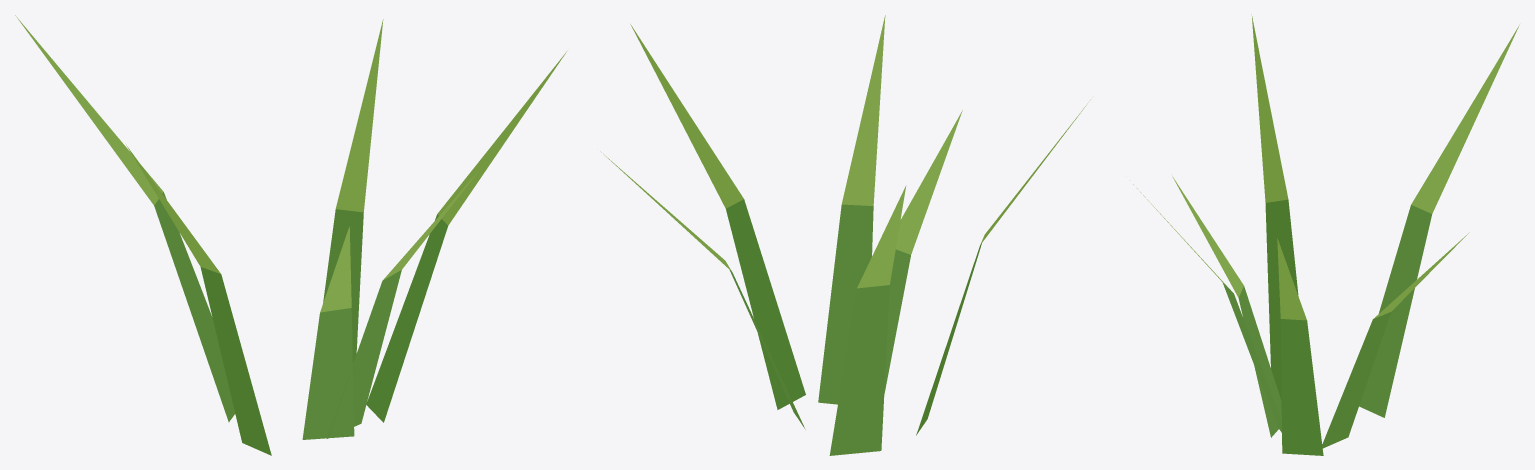
Rendered from grass_tuft_radi.glb.
3 views of the same model, side by side, from view 1: azimuth 30°, elevation 25°; view 2: azimuth 150°, elevation 25°; view 3: azimuth 270°, elevation 25° (orthographic). The views are drawn at different scales.
Visible parts, largest first — view 1: grass_tuft_radi; view 2: grass_tuft_radi; view 3: grass_tuft_radi.
Boxes of the visible parts, box(x1,y1,x2,y2) form: grass_tuft_radi: box(15, 15, 566, 455); grass_tuft_radi: box(600, 15, 1088, 455); grass_tuft_radi: box(1133, 14, 1519, 455).
Bounding box in the file's own units: 5.6 × 4.31 × 4.73.
